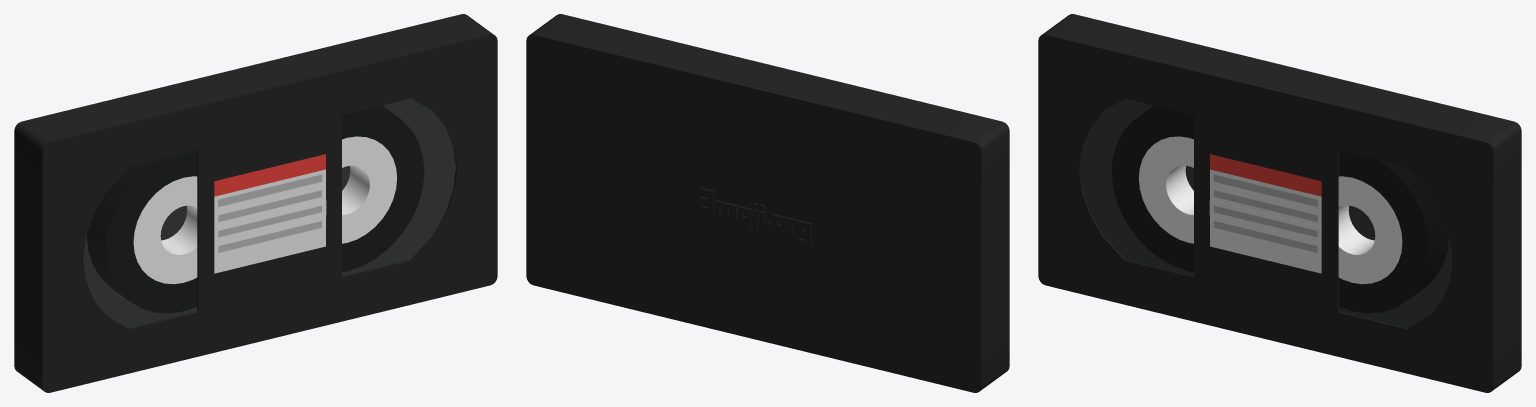
File: videocassette.fbx
3 renders of one model, left to right at view 1: azimuth 30°, elevation 25°; view 2: azimuth 150°, elevation 25°; view 3: azimuth 330°, elevation 25°, orthographic.
Visible parts, largest first — view 1: Cube.943; view 2: Cube.943; view 3: Cube.943.
Part boxes in pixels (box(x1,y1,x2,y2)): Cube.943: box(14, 14, 497, 392); Cube.943: box(526, 14, 1009, 392); Cube.943: box(1038, 14, 1521, 392).
Bounding box in the file's own units: 228 × 120 × 25.75.
2 materials, 1 textured.
